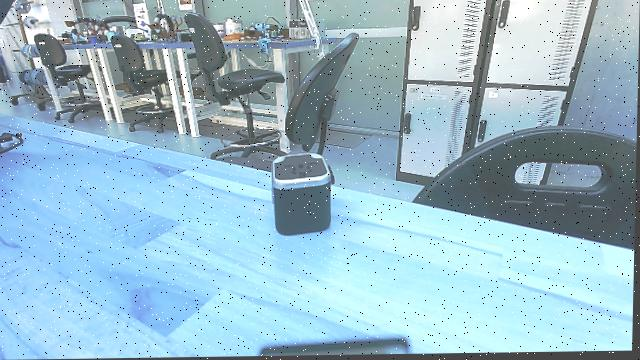adapter: (268, 149, 339, 240)
